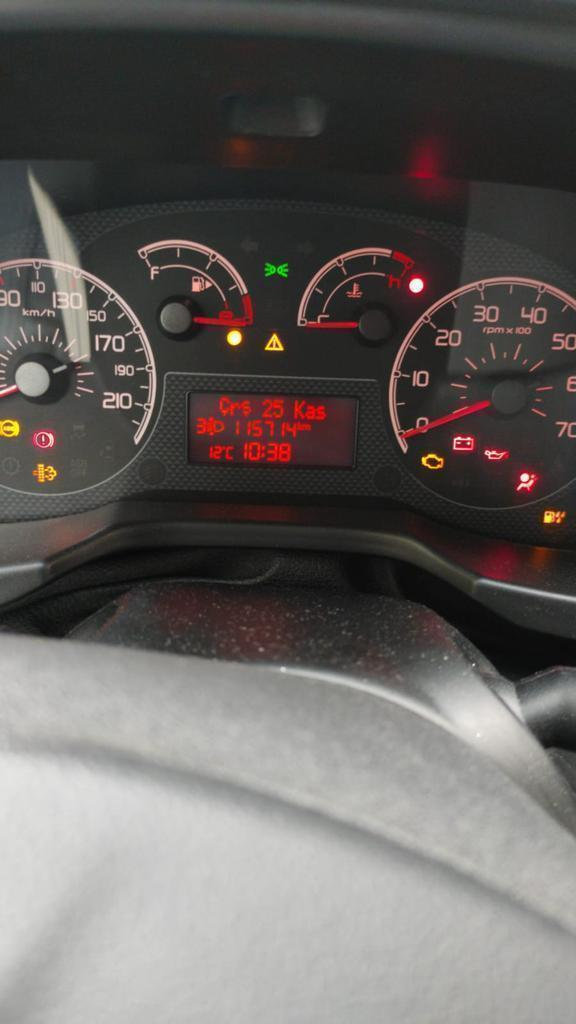0: (248, 441, 261, 460)
1: (246, 420, 251, 435), (243, 442, 247, 460), (281, 421, 285, 438), (235, 420, 239, 435), (208, 445, 212, 458)
2: (261, 399, 273, 418), (213, 445, 222, 458)
3: (266, 442, 278, 462), (195, 417, 206, 434)
4: (286, 421, 296, 438)
5: (273, 399, 283, 418), (252, 419, 262, 436)
7: (263, 420, 274, 437)
8: (278, 442, 291, 461)
X: (293, 399, 306, 419), (240, 399, 252, 416), (304, 404, 316, 420), (219, 397, 229, 416), (229, 401, 240, 416), (315, 405, 326, 420), (225, 446, 234, 460), (260, 445, 266, 457)
odometer: (183, 389, 359, 470)
